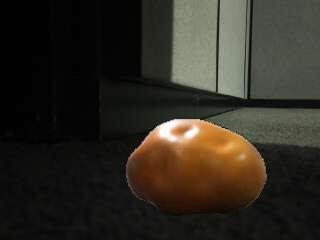Potato: (124, 115, 268, 218)
